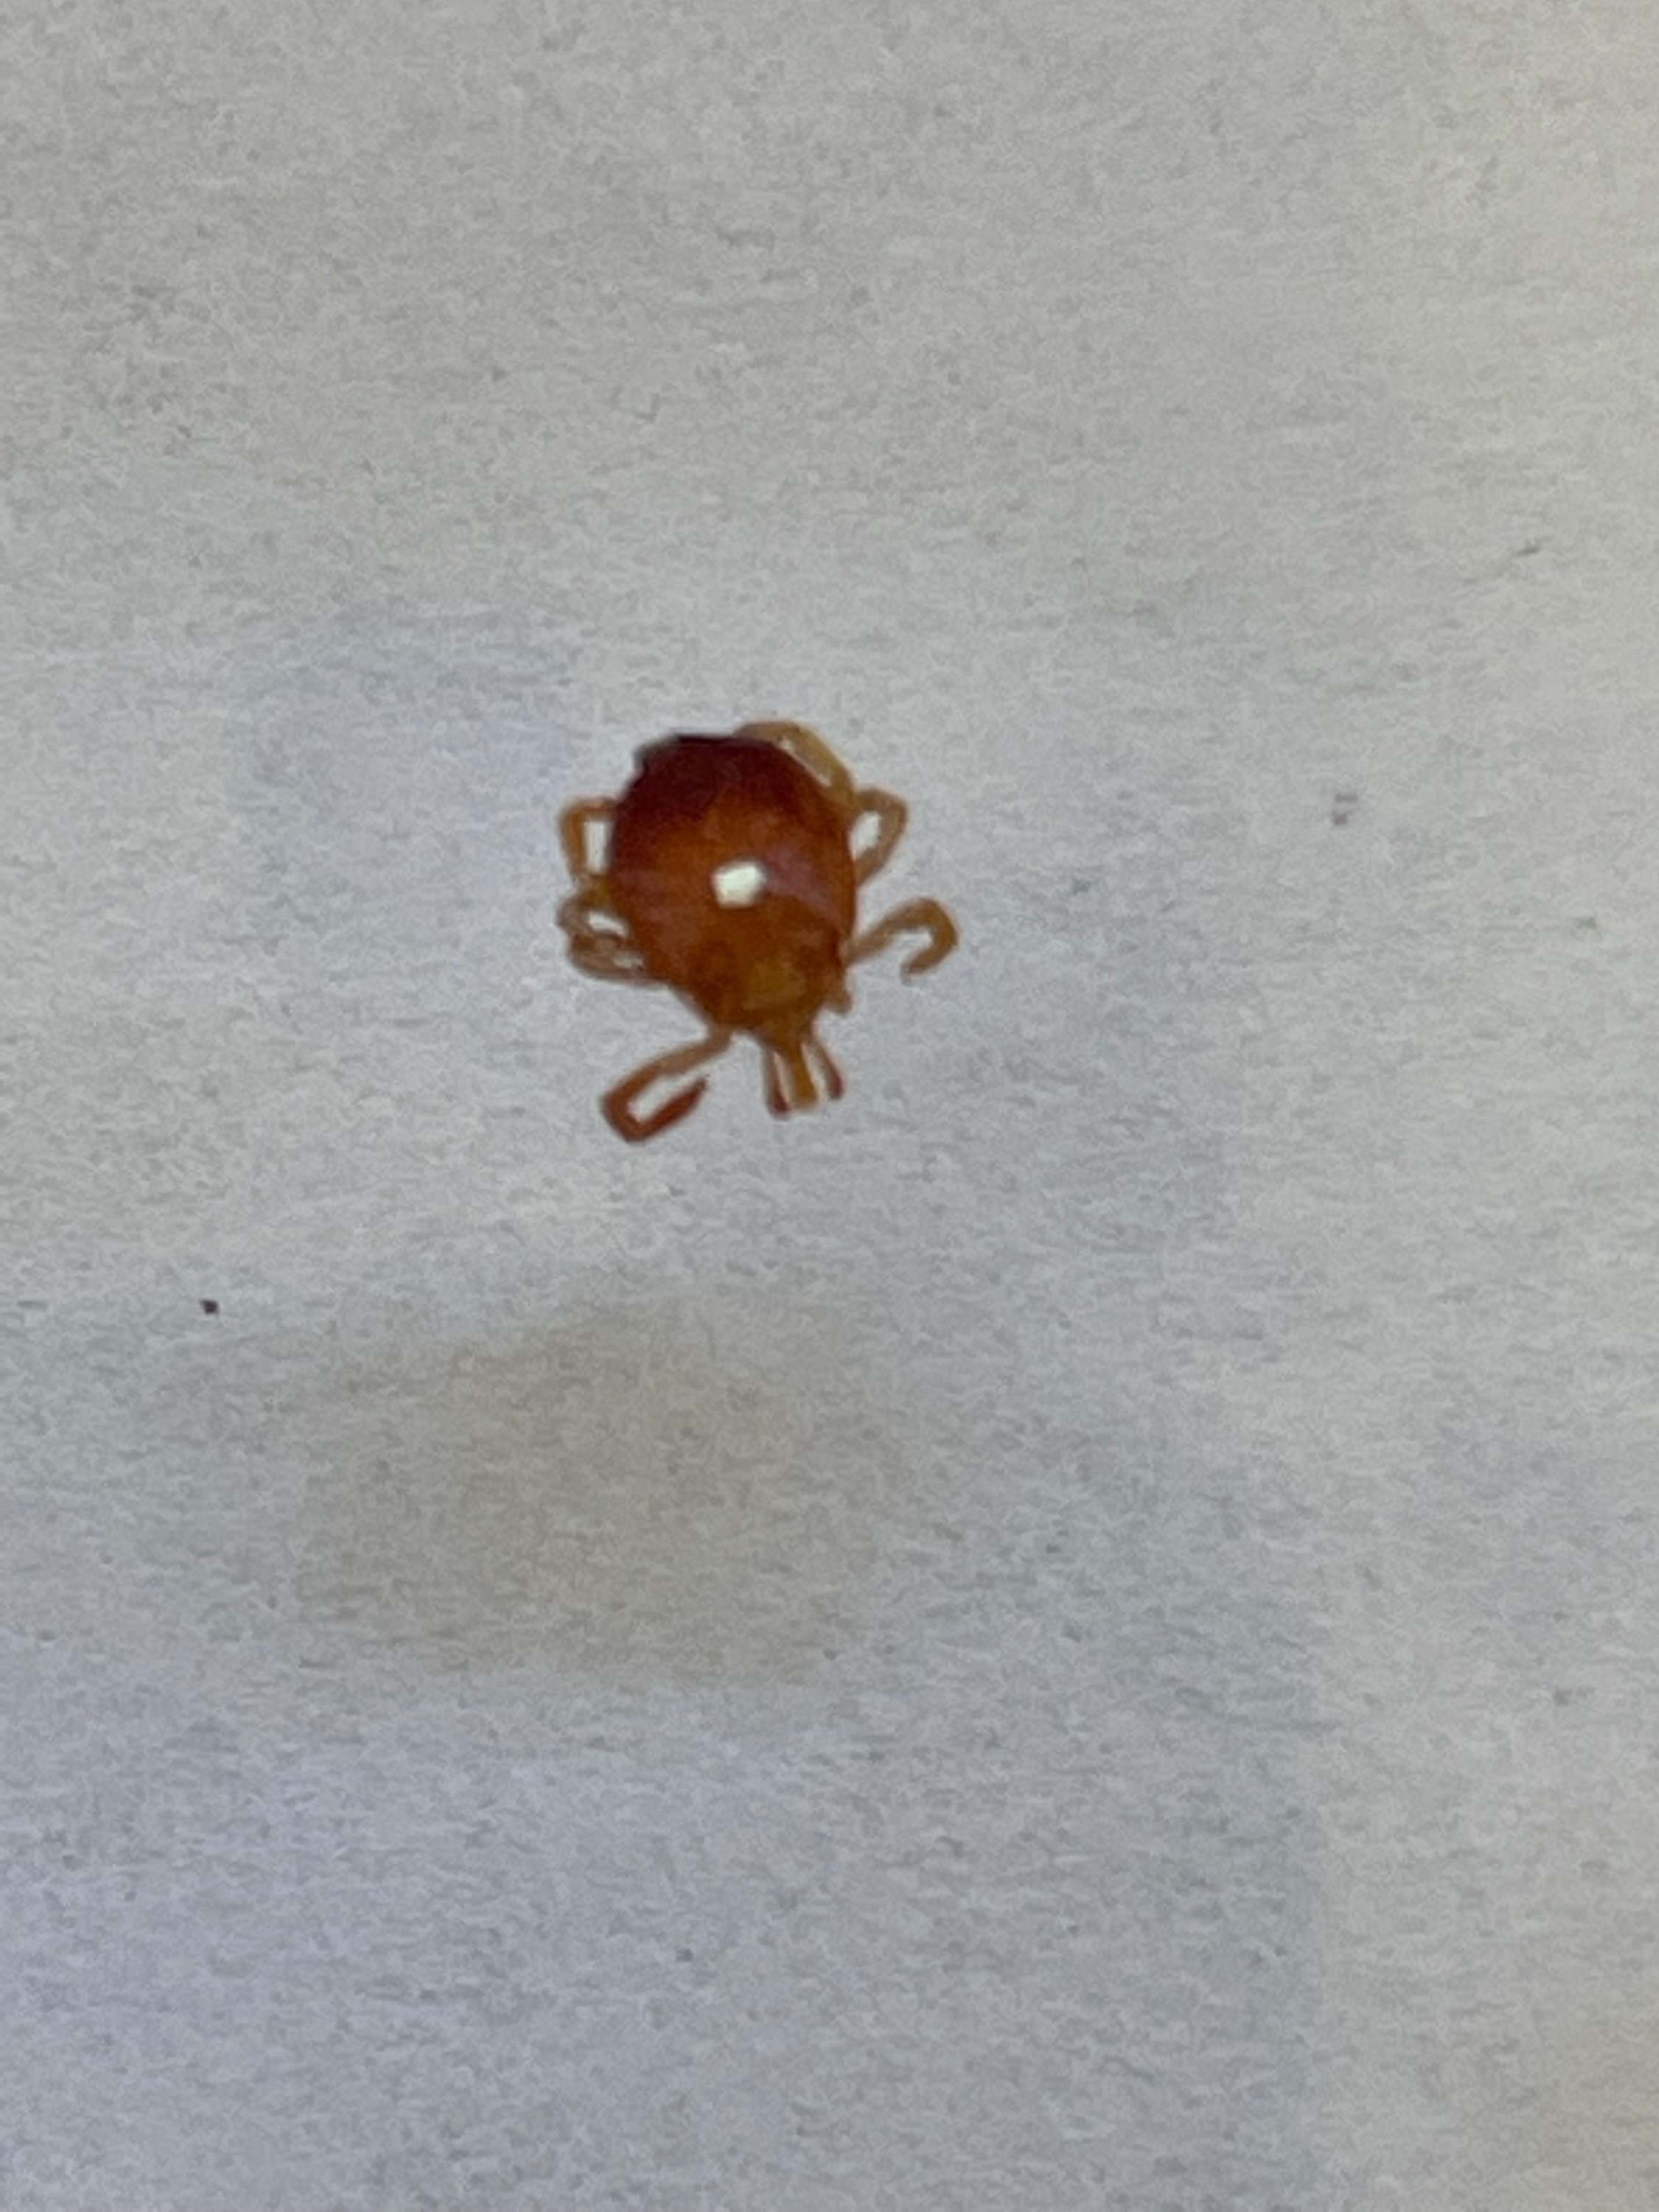unlabelled_tick: (521, 686, 984, 1175)
